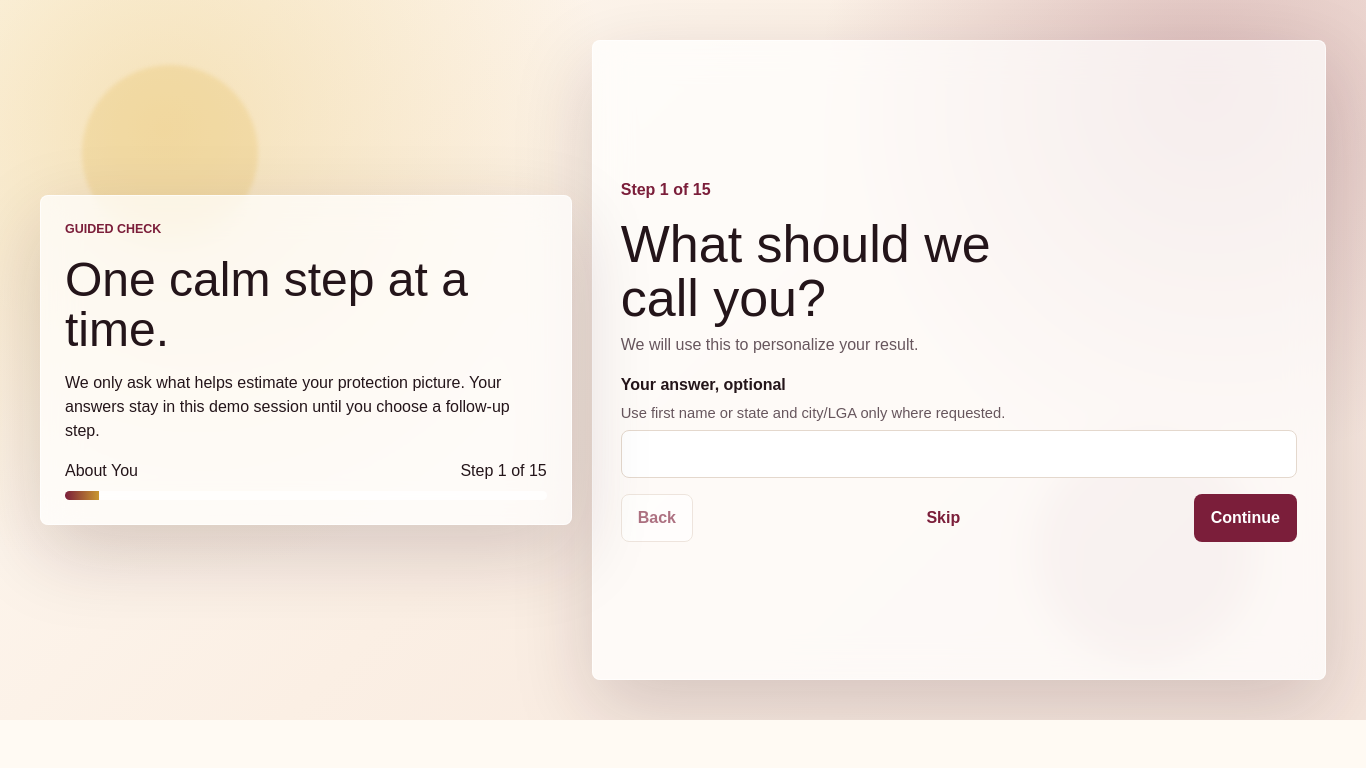
Test: protection check flow › moves forward and backward using the Module 3 engine
Click the button "Skip".
click(943, 518)  # box [909,494,977,542]
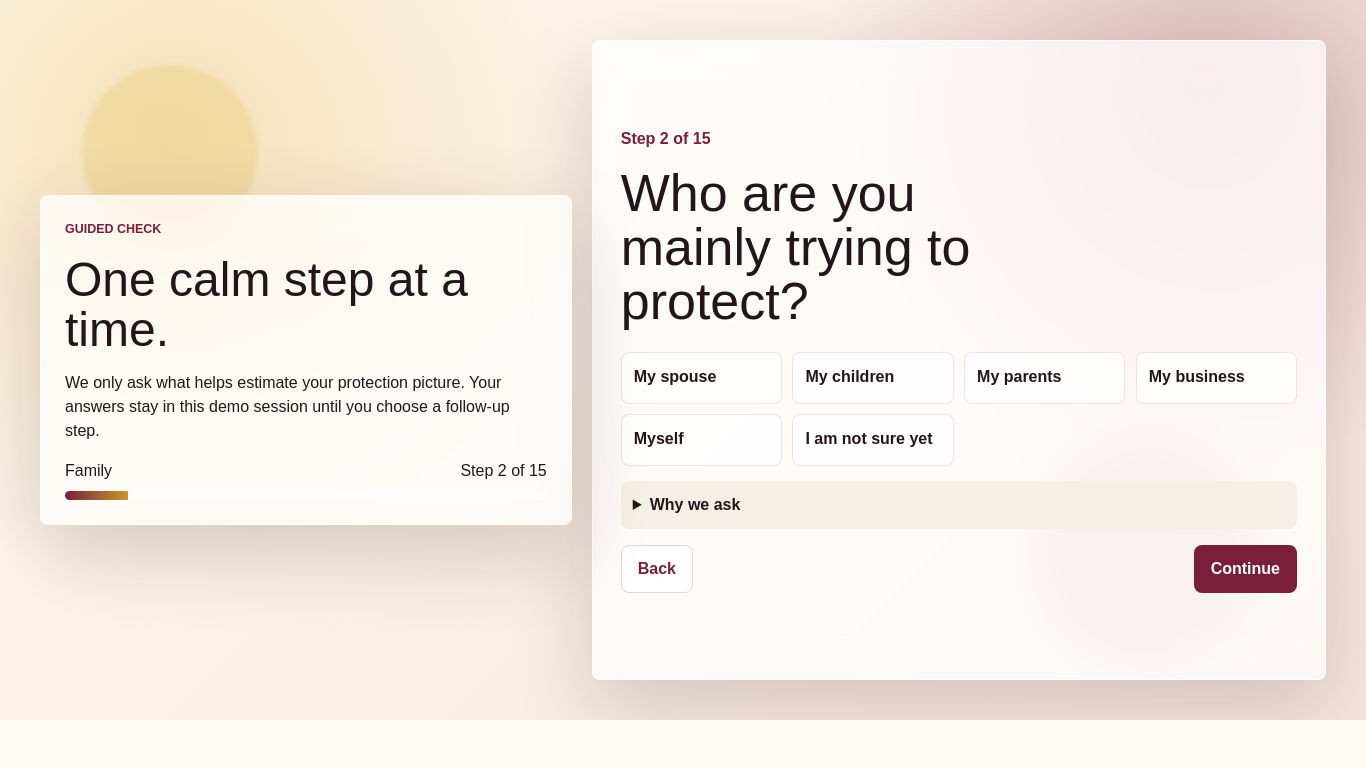
Expected: the heading "Who are you mainly trying to protect?" is shown, [621,164,970,330]
Click the button "My children".
click(873, 378)  # box [792,352,954,404]
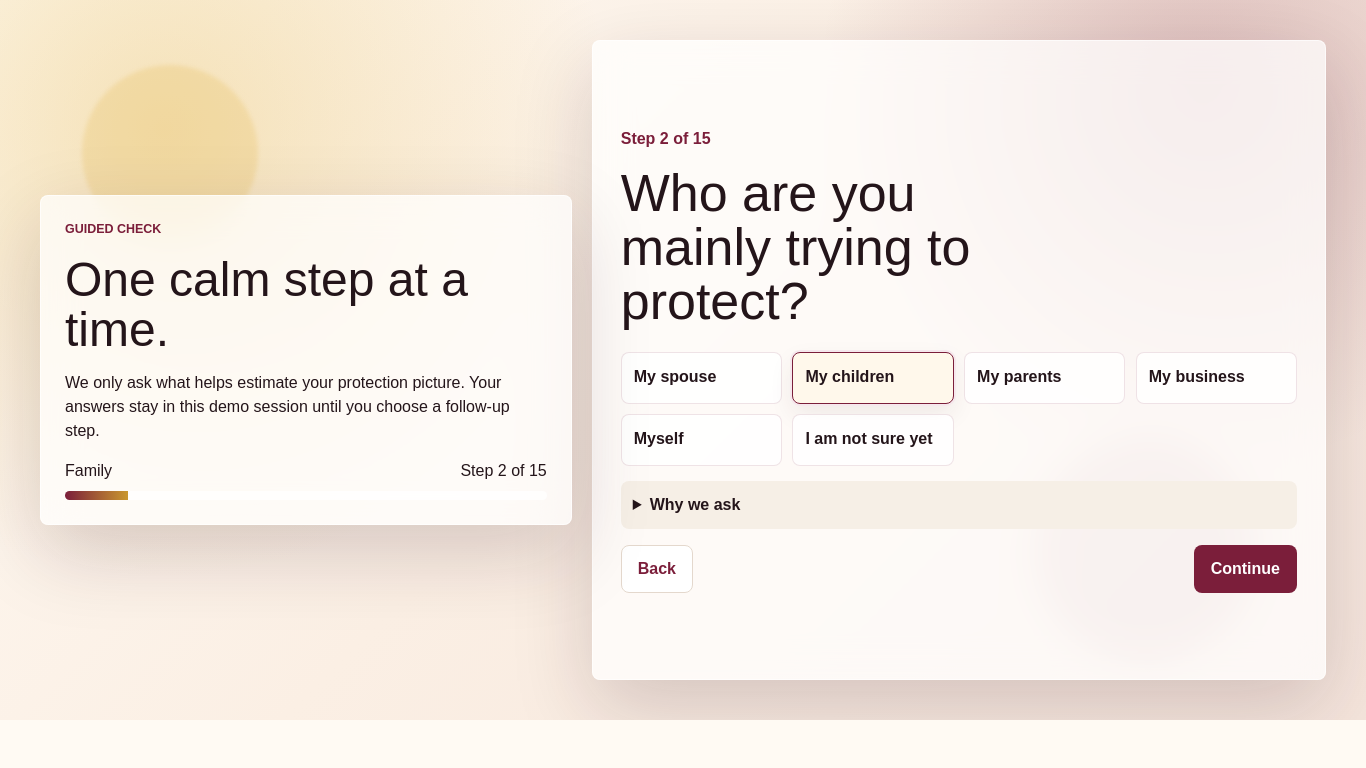
Click the button "Continue".
click(1245, 569)  # box [1194,545,1297,593]
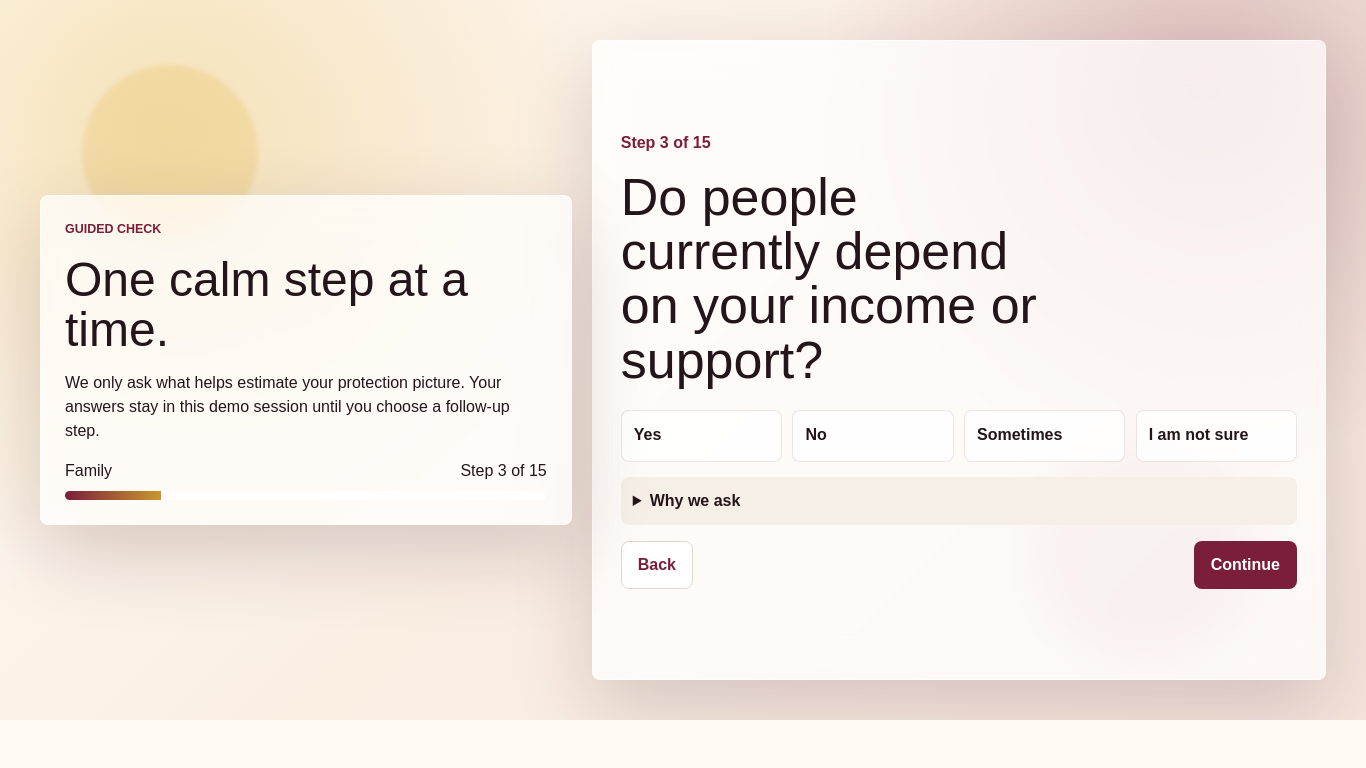
Expected: the heading "Do people currently depend on your income or support?" is shown, [621,170,1054,387]
Click the button "Back".
click(657, 565)  # box [621,541,693,589]
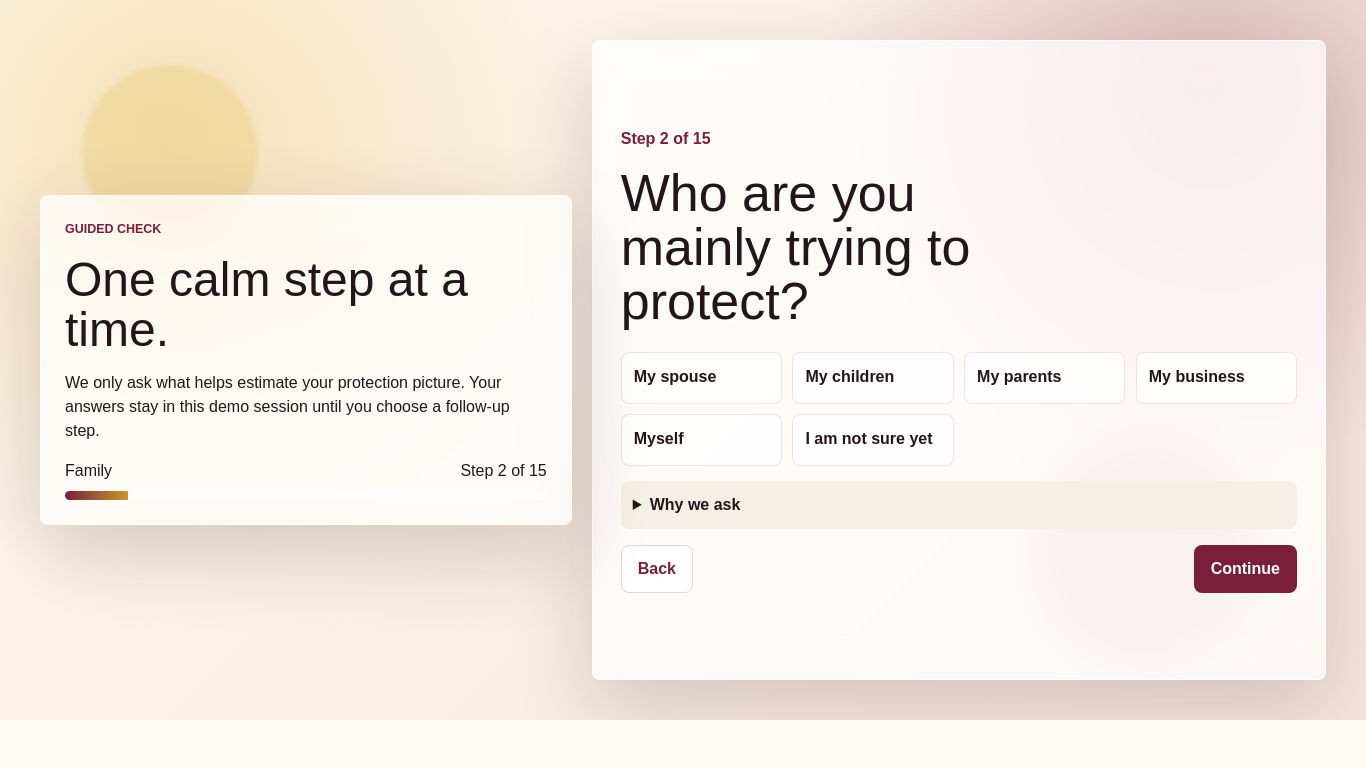
Expected: the heading "Who are you mainly trying to protect?" is shown, [621,164,970,330]
